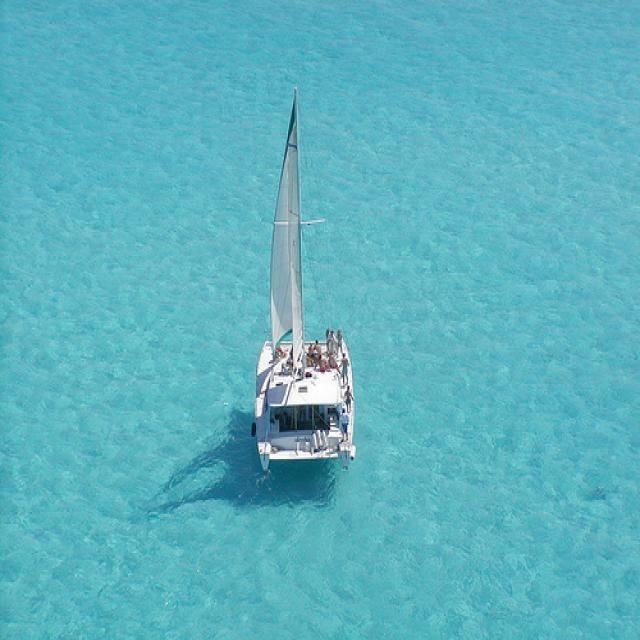Ship: (251, 87, 357, 481)
